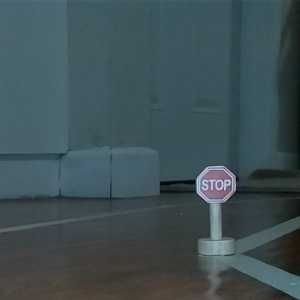stop sign: (192, 164, 239, 259)
